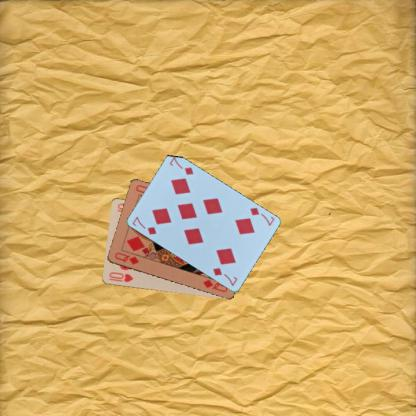10h: (106, 270, 134, 284)
7d: (246, 205, 276, 227), (129, 214, 158, 236)
Qd: (112, 250, 140, 266)
